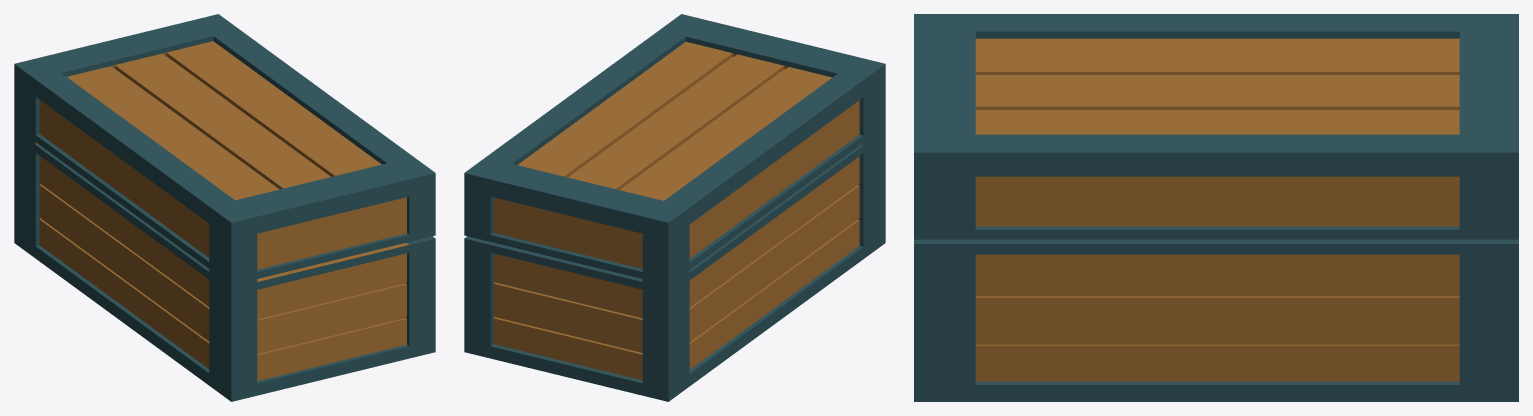
File: storage_box.fbx
The picture shows the model from 3 angles, left to right: view 1: azimuth 30°, elevation 25°; view 2: azimuth 150°, elevation 25°; view 3: azimuth 270°, elevation 25°; orthographic projection. The views are drawn at different scales.
Visible parts, largest first — view 1: Cube.1944; view 2: Cube.1944; view 3: Cube.1944.
Part boxes in pixels (x1,y1,x2,y2): Cube.1944: (14, 14, 435, 401); Cube.1944: (464, 14, 885, 401); Cube.1944: (914, 14, 1518, 401).
Bounding box in the file's own units: 11923 × 9988 × 21963.
